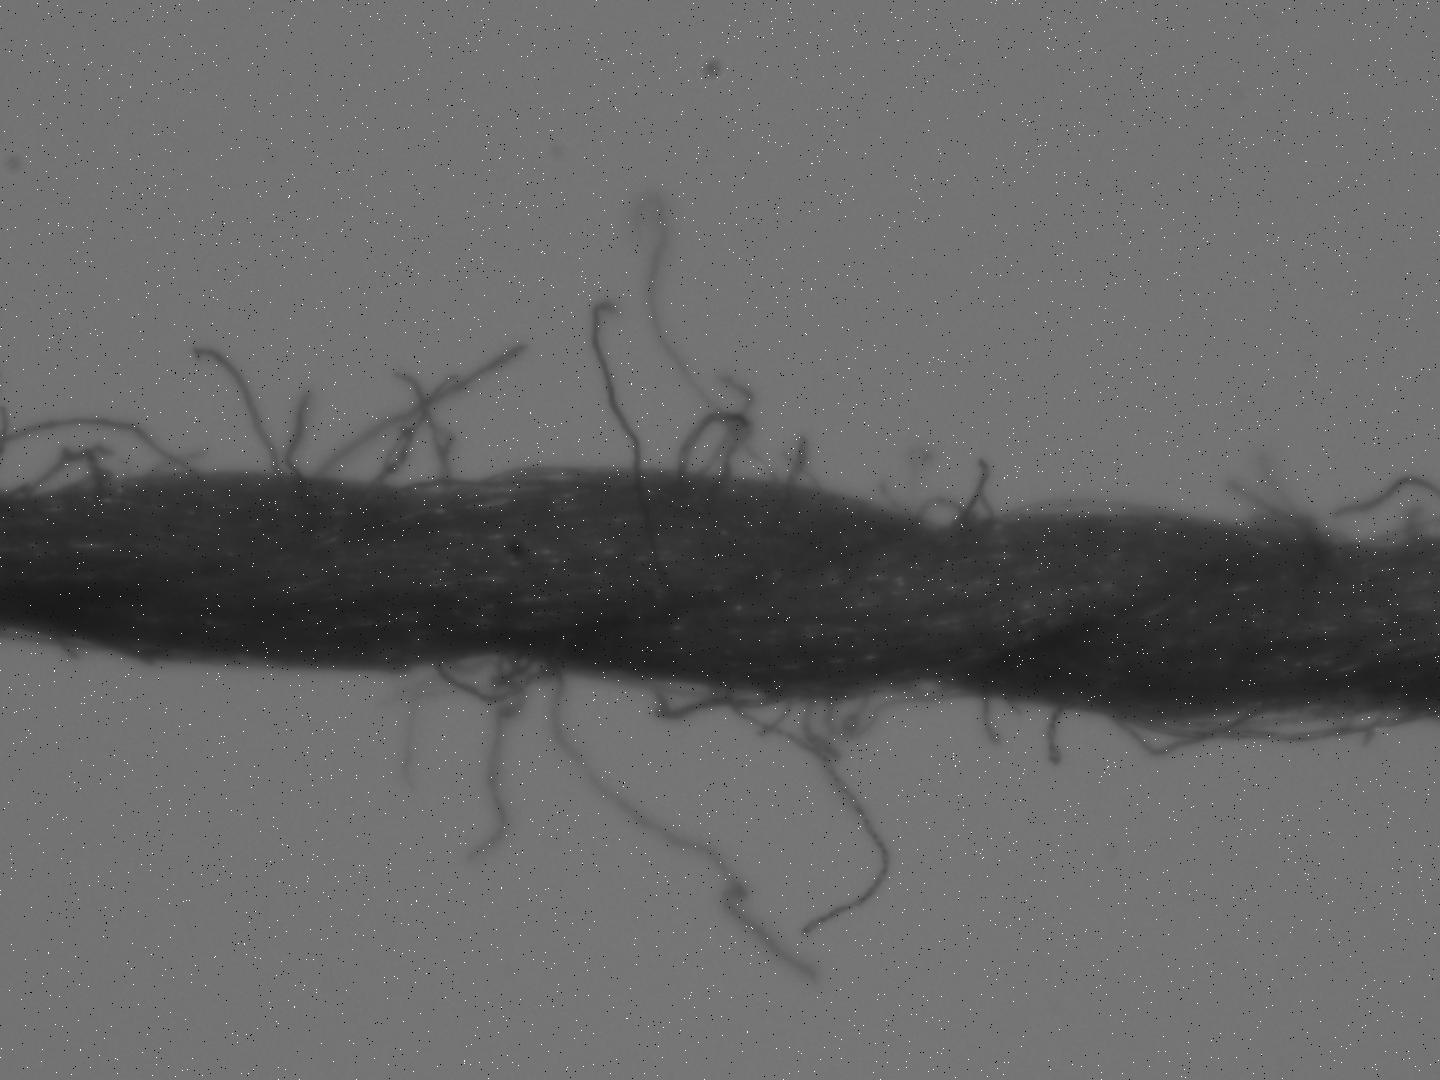loop_fiber: (629, 673, 881, 760), (1091, 703, 1433, 763), (1, 420, 206, 499), (664, 413, 823, 503), (819, 677, 1010, 743), (904, 450, 1005, 538), (417, 651, 551, 706)
protruding_fiber: (547, 658, 820, 980), (628, 187, 779, 487), (314, 343, 519, 480), (798, 697, 897, 940), (186, 347, 295, 480), (467, 658, 527, 866), (588, 301, 644, 476), (1319, 478, 1440, 539), (1222, 473, 1319, 549), (711, 371, 762, 490), (405, 365, 452, 487), (282, 391, 317, 479), (973, 690, 1005, 753), (1043, 710, 1067, 773)
